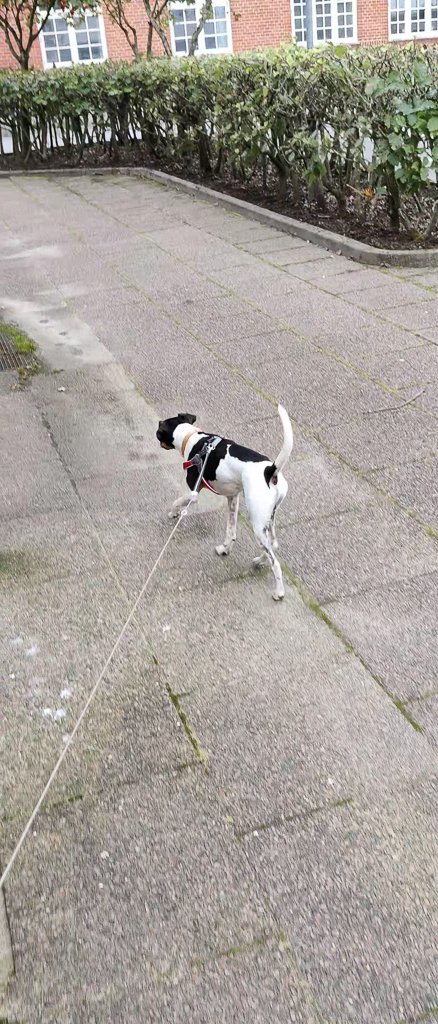Dog: (145, 388, 310, 611)
